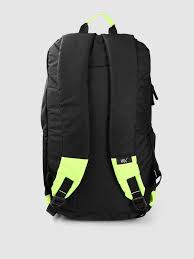backpack: (40, 20, 161, 220)
